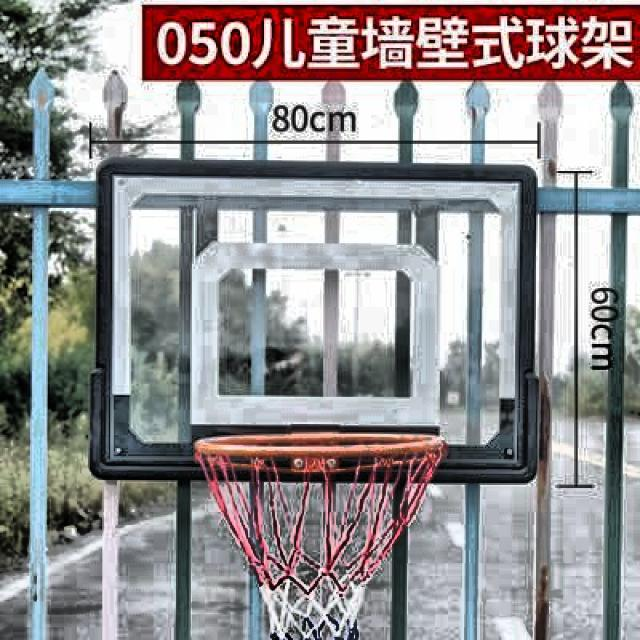rim: (192, 433, 447, 640)
